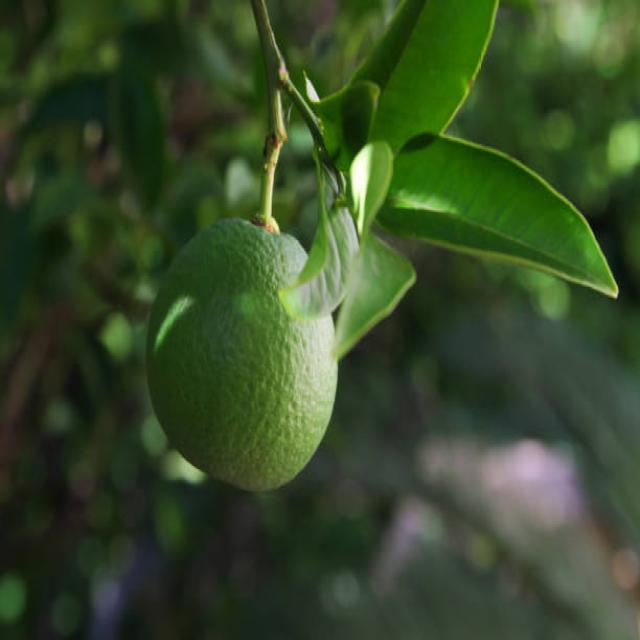Unripe: (144, 211, 338, 497)
